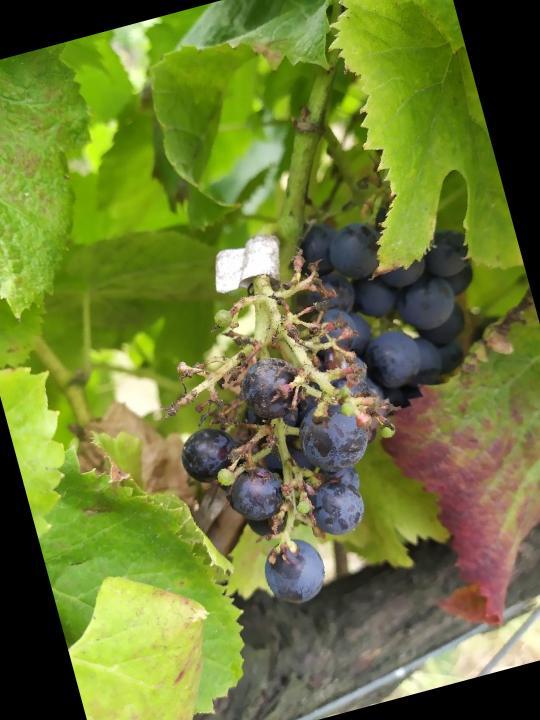grape: (131, 237, 443, 629)
